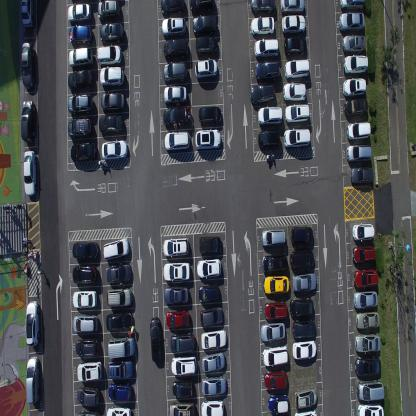car: (24, 300, 40, 348), (20, 40, 35, 89), (25, 355, 40, 404), (102, 236, 130, 261), (20, 99, 35, 144), (23, 149, 37, 197), (108, 335, 136, 359), (70, 140, 97, 164), (101, 137, 128, 161), (162, 260, 191, 282), (149, 315, 162, 363), (194, 127, 221, 150), (282, 126, 310, 148), (200, 328, 228, 350), (106, 310, 134, 332), (67, 68, 93, 91), (163, 37, 189, 60), (262, 344, 288, 367), (249, 83, 276, 105), (338, 12, 365, 34), (354, 356, 381, 378), (262, 274, 289, 296), (170, 354, 197, 376), (356, 380, 384, 401), (289, 247, 314, 270), (75, 335, 100, 358), (67, 93, 93, 115), (67, 116, 93, 138), (160, 16, 186, 38), (164, 130, 190, 152), (253, 38, 279, 60), (284, 58, 310, 80), (163, 284, 189, 306), (76, 360, 102, 382), (162, 236, 189, 257), (105, 262, 132, 283), (100, 65, 124, 88), (163, 60, 187, 83), (201, 351, 225, 374), (284, 102, 309, 124), (292, 272, 317, 294), (262, 252, 287, 274), (107, 380, 132, 402), (66, 3, 92, 24), (100, 92, 126, 113), (255, 61, 281, 82), (257, 105, 283, 126), (196, 257, 222, 278), (69, 23, 92, 46), (295, 386, 318, 409), (99, 22, 123, 44), (193, 14, 217, 36), (198, 104, 222, 126), (251, 15, 275, 37), (200, 305, 224, 327), (68, 47, 93, 68), (98, 113, 123, 134), (343, 54, 368, 75), (292, 339, 317, 360), (170, 332, 195, 353), (72, 264, 97, 285), (96, 44, 122, 64), (163, 106, 189, 126), (355, 334, 381, 354), (288, 296, 314, 316), (201, 375, 227, 395), (106, 287, 132, 307), (107, 358, 133, 378), (260, 228, 286, 248), (195, 58, 218, 80), (284, 34, 307, 56), (283, 81, 306, 103), (77, 386, 100, 408), (342, 76, 366, 97), (352, 245, 376, 266), (354, 268, 378, 289), (355, 310, 380, 330), (260, 322, 285, 342), (165, 309, 190, 329), (352, 290, 378, 309), (72, 240, 98, 259), (72, 314, 98, 333), (345, 144, 372, 162), (258, 128, 281, 149), (290, 225, 313, 246), (198, 234, 221, 255), (163, 84, 187, 104), (344, 97, 368, 117), (292, 318, 316, 338), (264, 369, 288, 389), (281, 15, 306, 34), (72, 290, 97, 309), (98, 0, 120, 21), (267, 392, 289, 413), (172, 378, 194, 399), (352, 222, 375, 242), (264, 300, 287, 320), (195, 36, 219, 55), (347, 121, 371, 140), (350, 165, 374, 184), (200, 398, 225, 416), (342, 35, 366, 53), (198, 283, 219, 303), (160, 0, 185, 16), (168, 401, 196, 415), (20, 0, 33, 30), (249, 0, 276, 14), (189, 0, 215, 14), (280, 0, 304, 15), (356, 403, 385, 415), (338, 0, 366, 12), (105, 405, 132, 415), (76, 408, 102, 415), (294, 408, 318, 415)
